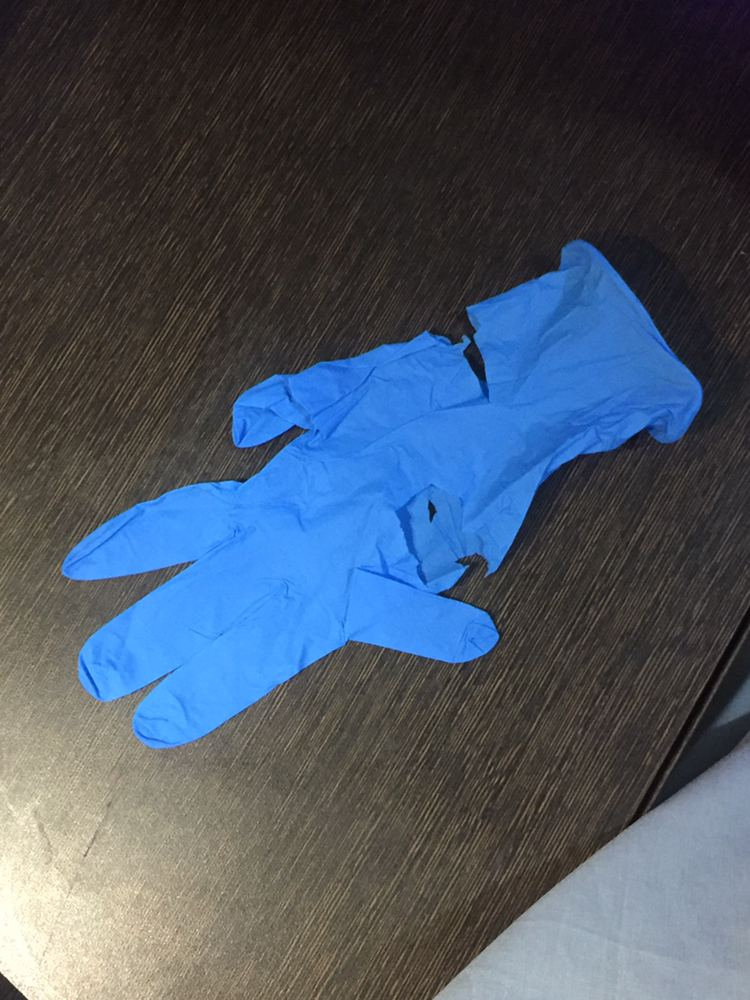defected: (20, 259, 750, 735)
